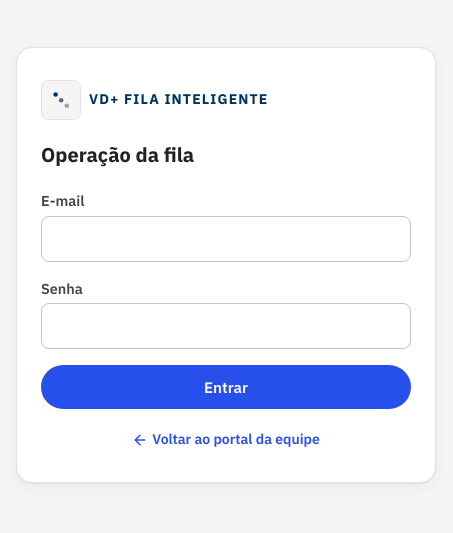
Test: StaffLoginForm › rejects a valid account that lacks access to the requested area
The image size is (453, 533).
Type "operadora@example.com" into the field labelled "E-mail" at (226, 238), box 41,216 -> 411,262
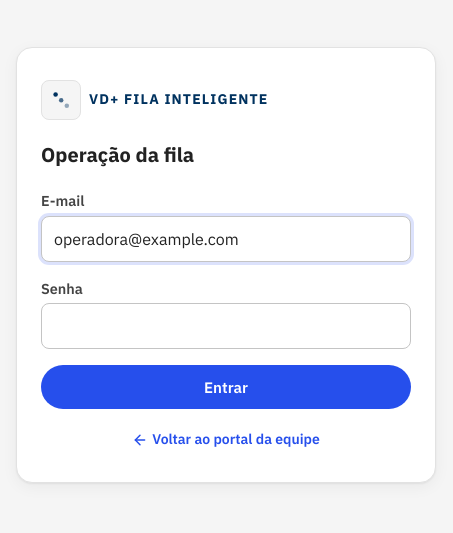
Type "password123" into the password field labelled "Senha" at (226, 326), box 41,303 -> 411,349
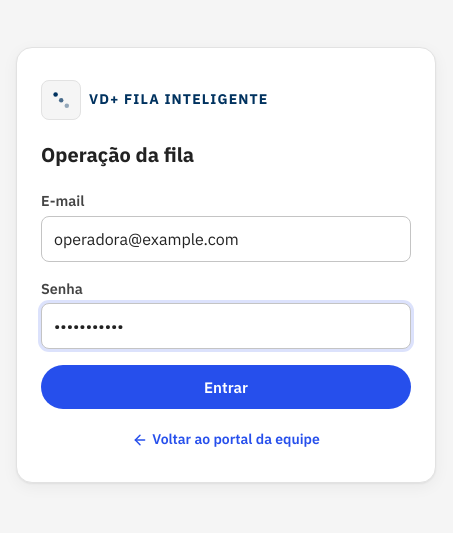
Click the button "Entrar" at (226, 387), box 41,365 -> 411,409
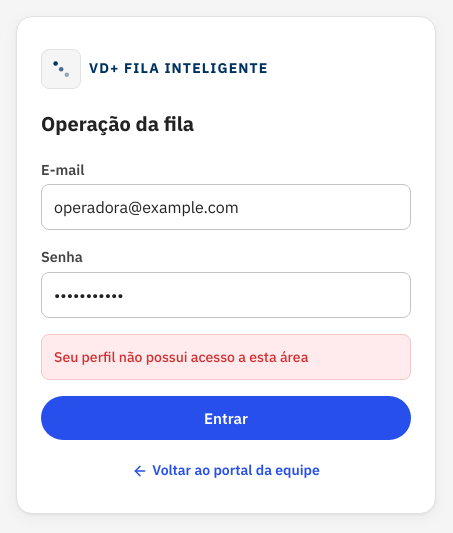
Expected: the message reads "Seu perfil não possui acesso a esta área", 54,348 -> 308,366
